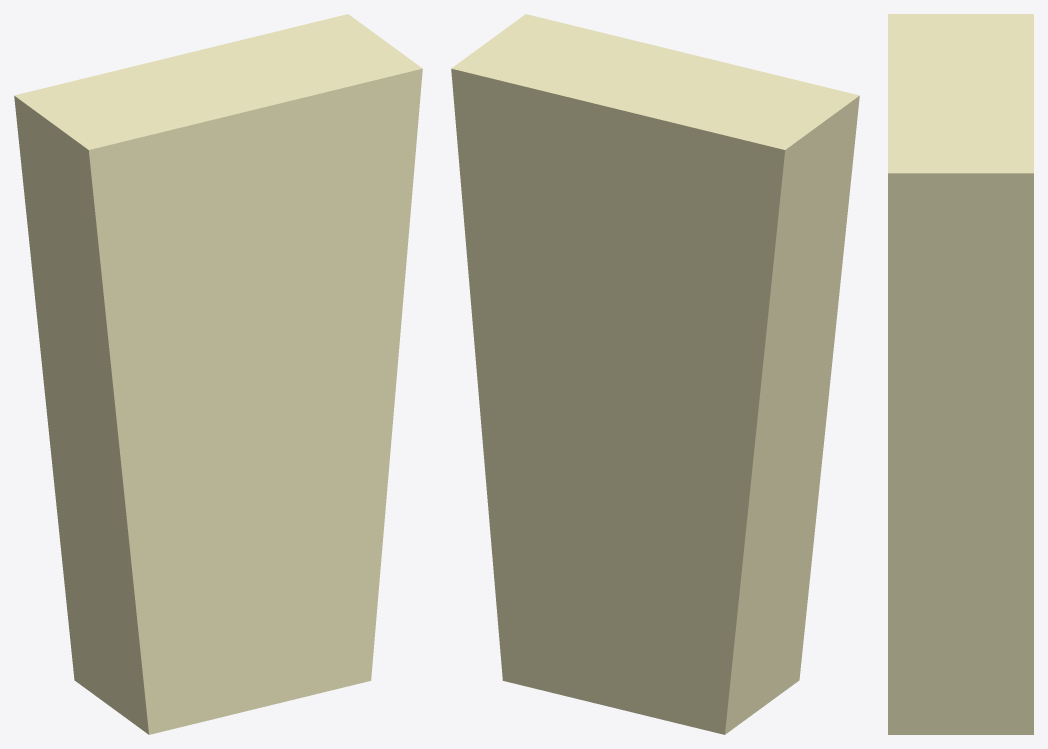
The model's file is MenuLoad.glb.
3 renders of one model, left to right at view 1: azimuth 30°, elevation 25°; view 2: azimuth 150°, elevation 25°; view 3: azimuth 270°, elevation 25°, orthographic. The views are drawn at different scales.
Parts seen in each view (by area): view 1: MenuLoad; view 2: MenuLoad; view 3: MenuLoad.
Part boxes in pixels (box(x1,y1,x2,y2)): MenuLoad: box(14, 14, 422, 734); MenuLoad: box(451, 14, 859, 734); MenuLoad: box(888, 14, 1033, 734).
Size of the model in its own units: 77.55 by 133 by 30.
1 material, 1 textured.
